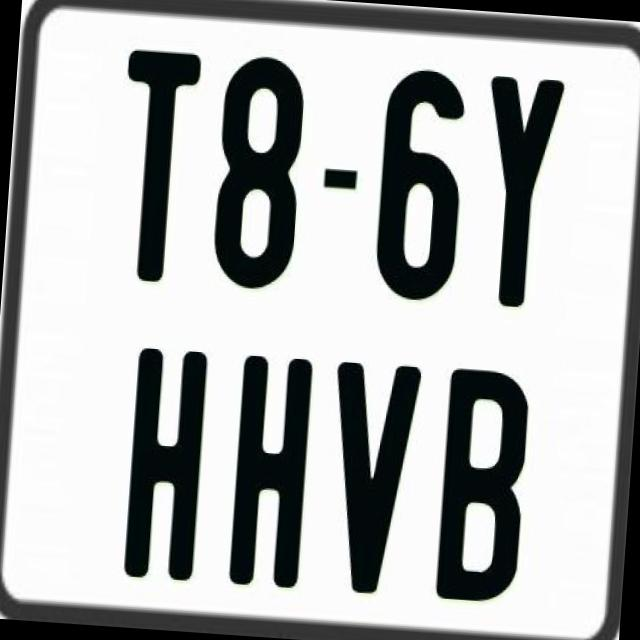6: (368, 66, 467, 302)
8: (208, 51, 310, 294)
B: (436, 366, 534, 604)
H: (122, 345, 212, 589), (227, 352, 311, 586)
T: (109, 48, 197, 283)
V: (322, 360, 426, 606)
Y: (473, 70, 567, 309)
